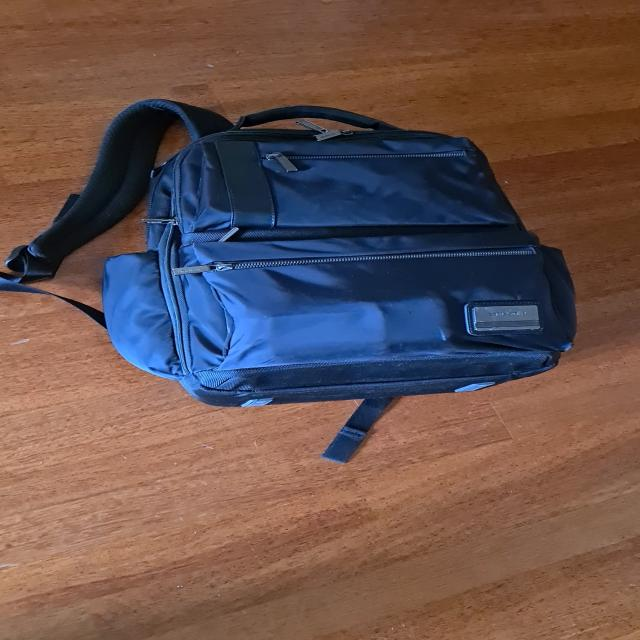backpack: (55, 87, 595, 423)
